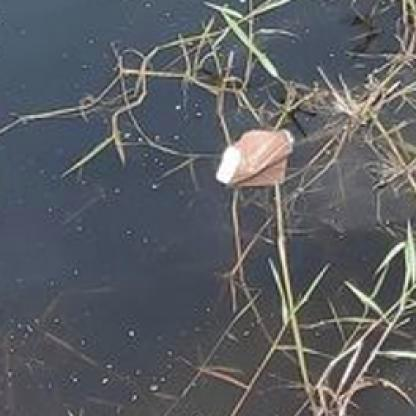Trash: (214, 127, 295, 188)
